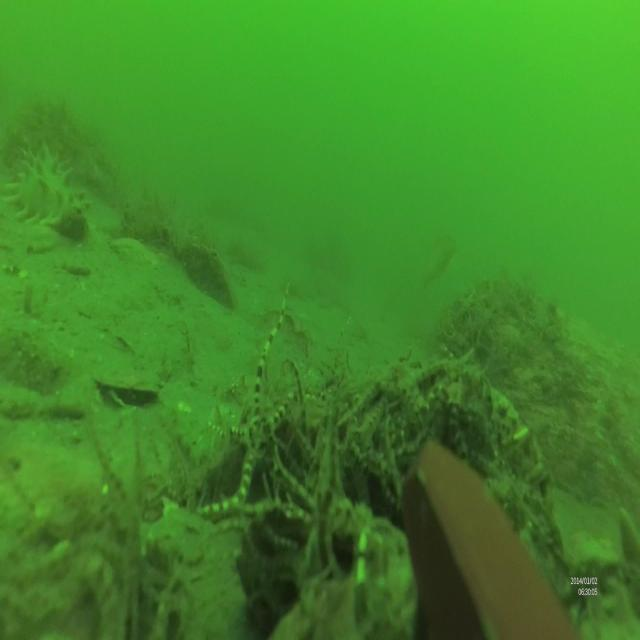holothurian: (0, 145, 91, 243)
scallop: (89, 350, 161, 412)
starfish: (198, 283, 298, 522)
